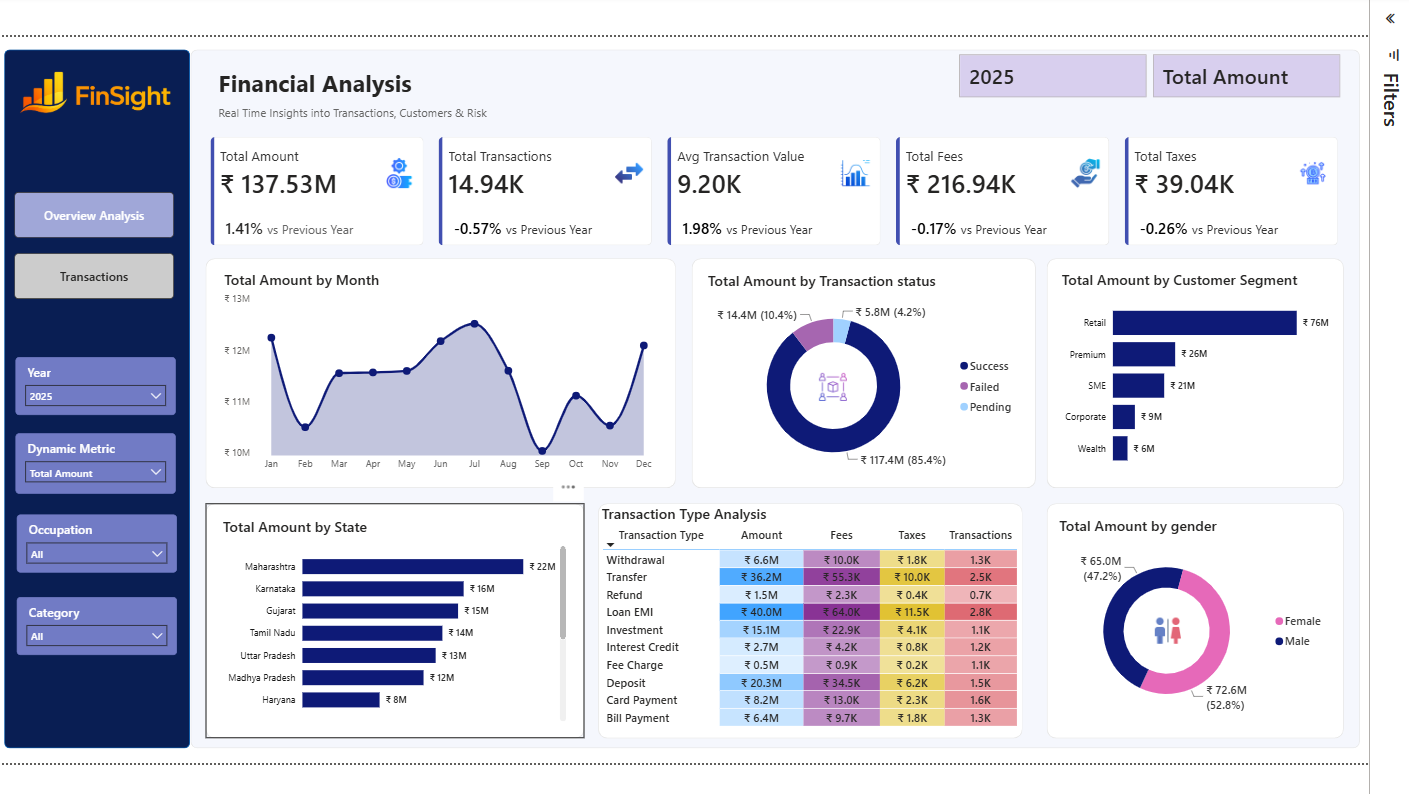

This screenshot's page, from the dashboard's own definition file:
{"tool":"powerbi","page":{"name":"Overview Analysis","canvas":[1800,950],"ordinal":0},"visuals":[{"type":"shape","box":[14.8,16.4,242.9,914.2],"z":0},{"type":"shape","box":[257.7,16.4,1529.7,914.2],"z":1000},{"type":"image","box":[19.7,27.9,233.1,90.3],"z":2000},{"type":"cardVisual","fields":{"Data":["finance_transactions.Dashboard Title"]},"box":[277.8,17.6,388.6,112.5],"z":3000},{"type":"cardVisual","fields":{"Data":["finance_transactions.Total Amount","finance_transactions.Total Transactions","finance_transactions.Avg Transaction Value","finance_transactions.Total Fees","finance_transactions.Total Taxes"]},"box":[277.8,124.8,1489.2,154.7],"z":4000},{"type":"slicer","fields":{"Values":["Calendar Table.Year"]},"box":[29.9,418.4,209.2,75.6],"z":5000},{"type":"image","box":[506.4,153,49.2,49.2],"z":6000},{"type":"image","box":[807,153,49.2,49.2],"z":7000},{"type":"image","box":[1701.9,153,49.2,49.2],"z":8000},{"type":"image","box":[1104.1,153,49.2,49.2],"z":9000},{"type":"image","box":[1404.8,153,49.2,49.2],"z":10000},{"type":"slicer","fields":{"Values":["Dynamic Metric.Dynamic Metric"]},"box":[28.8,518,209.2,79.1],"z":11000},{"type":"shape","box":[277.8,290.1,615.4,300.6],"z":12000},{"type":"areaChart","fields":{"Y":["finance_transactions.Total Amount"],"Category":["Calendar Table.Month"]},"box":[297.1,304.2,576.7,272.5],"z":13000},{"type":"cardVisual","fields":{"Data":["finance_transactions.Selected Year","finance_transactions.Selected Dynamic Measure"]},"box":[1258.8,17.6,508.1,66.8],"z":14000},{"type":"shape","box":[914.2,290.1,450.1,300.6],"z":15000},{"type":"donutChart","fields":{"Y":["finance_transactions.Total Amount"],"Category":["finance_transactions.transaction_status"]},"box":[930.1,305.9,416.7,276],"z":16000},{"type":"shape","box":[1378.4,290.1,388.6,300.6],"z":17000},{"type":"barChart","fields":{"Y":["finance_transactions.Total Amount"],"Category":["customers.customer_segment"]},"box":[1392.5,304.2,360.4,272.5],"z":18000},{"type":"shape","box":[277.8,610.1,495.8,307.7],"z":19000},{"type":"barChart","fields":{"Y":["finance_transactions.Total Amount"],"Category":["customers.state"]},"box":[295.4,627.7,458.9,272.5],"z":20000},{"type":"shape","box":[791.2,610.1,555.6,307.7],"z":21000},{"type":"tableEx","title":"Transaction Type Analysis","fields":{"Values":["finance_transactions.transaction_type","finance_transactions.Total Amount","finance_transactions.Total Fees","finance_transactions.Total Taxes","finance_transactions.Total Transactions"]},"box":[791.2,610.1,555.6,307.7],"z":22000},{"type":"shape","box":[1378.4,610.1,388.6,307.7],"z":23000},{"type":"donutChart","fields":{"Y":["finance_transactions.Total Amount"],"Category":["customers.gender"]},"box":[1390.7,625.9,362.2,276],"z":24000},{"type":"image","box":[1074.2,432.5,49.2,49.2],"z":25000},{"type":"image","box":[1512,752.5,49.2,49.2],"z":26000},{"type":"slicer","fields":{"Values":["customers.occupation"]},"box":[30.6,625.2,209.2,75.6],"z":27000},{"type":"slicer","fields":{"Values":["finance_transactions.merchant_category"]},"box":[30.6,732.4,209.2,75.6],"z":28000},{"type":"pageNavigator","box":[28.1,202.2,209.2,140.7],"z":29000}]}

Visuals, with their boxes on the page's 1800x950 design canvas (x1, y1, x2, y2). These are canvas units, not pixel positions in the 1409x794 screenshot, which may show the page scaled, cropped or inside an application window:
shape: 15,16,258,931
shape: 258,16,1787,931
image: 20,28,253,118
cardVisual - finance_transactions.Dashboard Title: 278,18,666,130
cardVisual - finance_transactions.Total Amount x finance_transactions.Total Transactions: 278,125,1767,280
slicer - Calendar Table.Year: 30,418,239,494
image: 506,153,556,202
image: 807,153,856,202
image: 1702,153,1751,202
image: 1104,153,1153,202
image: 1405,153,1454,202
slicer - Dynamic Metric.Dynamic Metric: 29,518,238,597
shape: 278,290,893,591
areaChart - finance_transactions.Total Amount x Calendar Table.Month: 297,304,874,577
cardVisual - finance_transactions.Selected Year x finance_transactions.Selected Dynamic Measure: 1259,18,1767,84
shape: 914,290,1364,591
donutChart - finance_transactions.Total Amount x finance_transactions.transaction_status: 930,306,1347,582
shape: 1378,290,1767,591
barChart - finance_transactions.Total Amount x customers.customer_segment: 1392,304,1753,577
shape: 278,610,774,918
barChart - finance_transactions.Total Amount x customers.state: 295,628,754,900
shape: 791,610,1347,918
"Transaction Type Analysis" tableEx: 791,610,1347,918
shape: 1378,610,1767,918
donutChart - finance_transactions.Total Amount x customers.gender: 1391,626,1753,902
image: 1074,432,1123,482
image: 1512,752,1561,802
slicer - customers.occupation: 31,625,240,701
slicer - finance_transactions.merchant_category: 31,732,240,808
pageNavigator: 28,202,237,343
